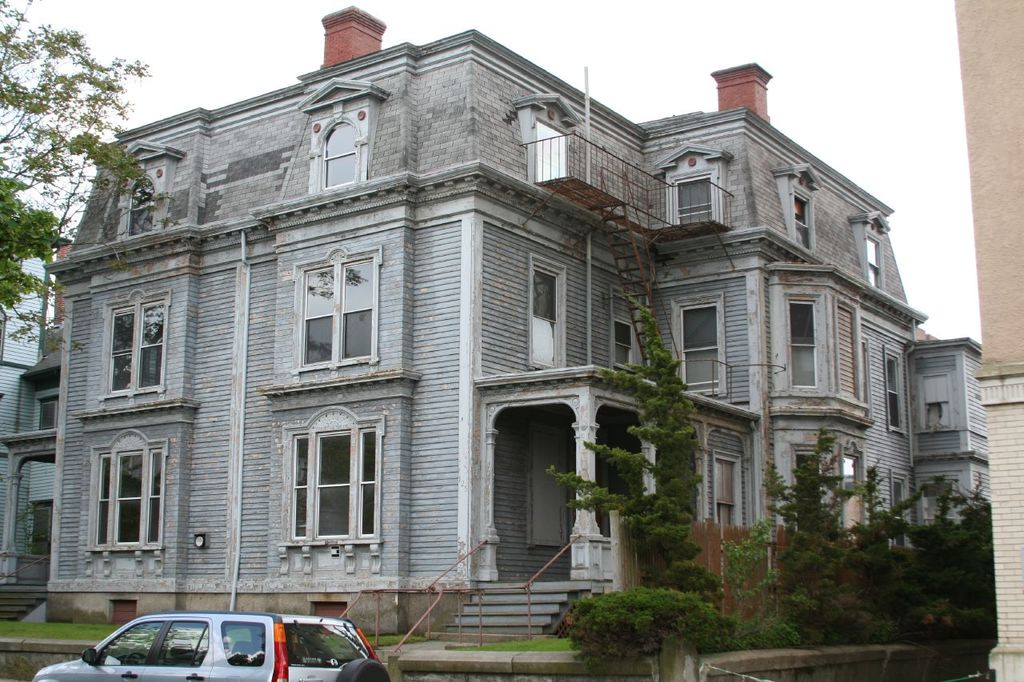Tree: (0, 0, 181, 351)
